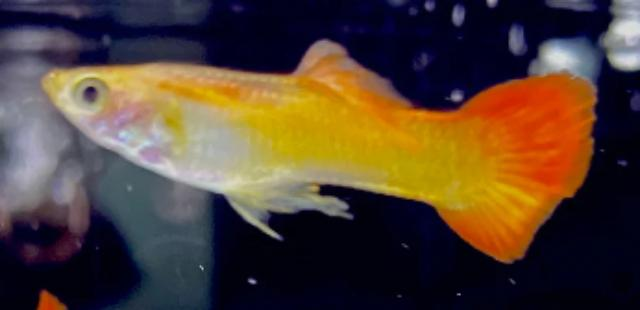Mulut: (17, 46, 88, 123)
Sirip Anal: (279, 166, 381, 236)
Sirip Ekor: (426, 56, 610, 272)
Sirip Perut: (214, 181, 296, 253)
Sirip Punggung: (284, 30, 438, 144)
